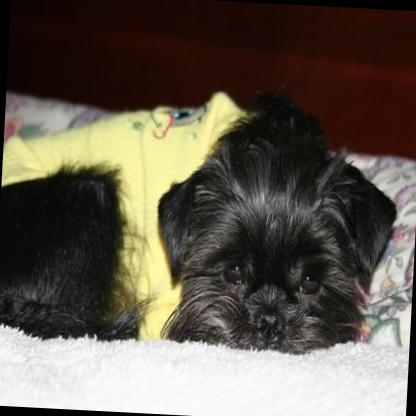affenpinscher: (0, 77, 401, 358)
